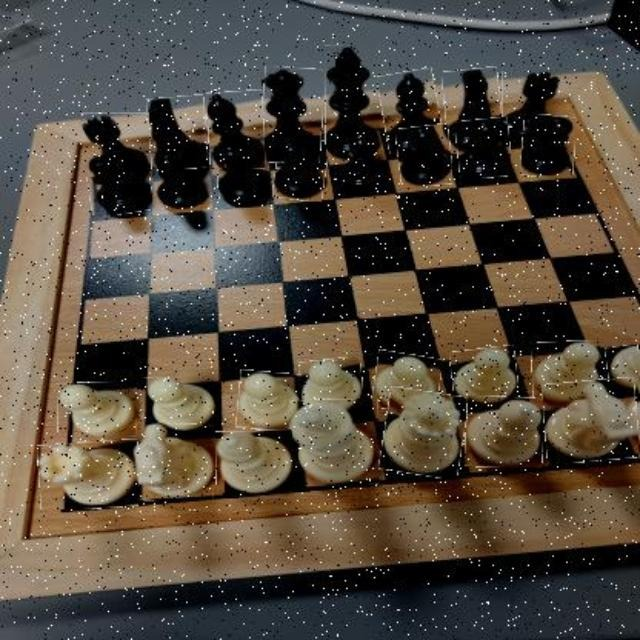black-bishop: (380, 70, 441, 154), (208, 90, 266, 170)
black-king: (325, 45, 381, 158)
black-knight: (445, 68, 503, 152), (148, 95, 208, 170)
black-pawn: (88, 152, 152, 215), (520, 114, 575, 177), (397, 124, 452, 187), (274, 137, 327, 201), (456, 119, 511, 179), (152, 150, 207, 206), (337, 133, 389, 191), (218, 142, 268, 202)
black-queen: (260, 67, 323, 163)
black-rook: (81, 112, 151, 178), (502, 72, 562, 142)
white-bishop: (466, 396, 544, 468), (217, 430, 293, 494)
white-king: (290, 400, 380, 486)
white-knight: (543, 380, 638, 464), (135, 425, 215, 501)
white-pawn: (58, 383, 138, 438), (532, 341, 602, 401), (375, 351, 441, 412), (451, 346, 518, 406), (146, 377, 216, 432), (237, 372, 303, 430), (300, 358, 364, 413), (606, 346, 638, 401)
white-queen: (382, 389, 466, 478)
white-rook: (37, 440, 138, 509)
